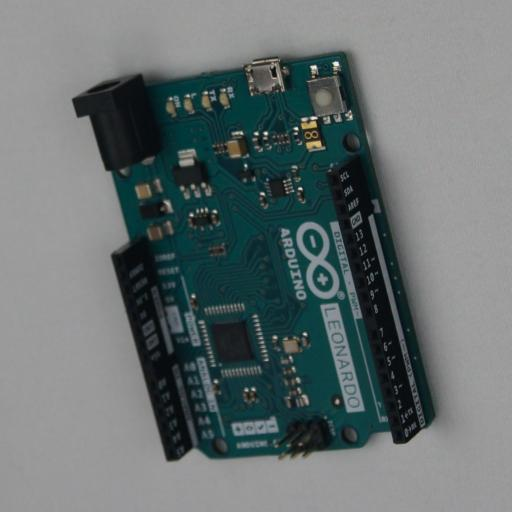Arduino Leonardo: (72, 51, 439, 461)
